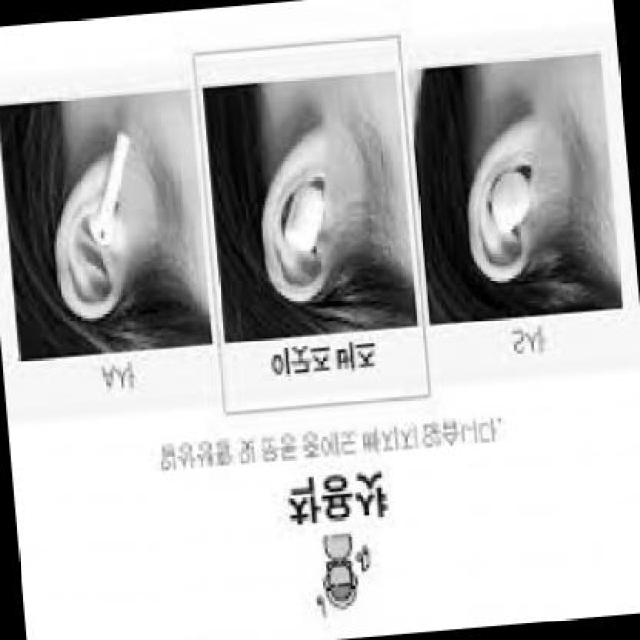earphone: (89, 126, 144, 259), (476, 161, 542, 248), (279, 178, 334, 268)
